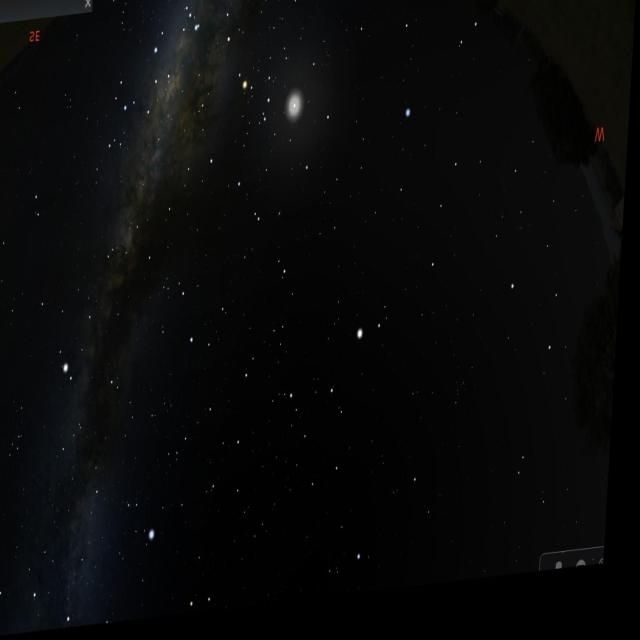aquila: (51, 246, 136, 437)
bootes: (286, 304, 396, 528)
lyra: (125, 481, 173, 556)
moon: (265, 76, 323, 154)
sagittarius: (92, 30, 186, 167)
scorpius: (175, 0, 285, 161)
